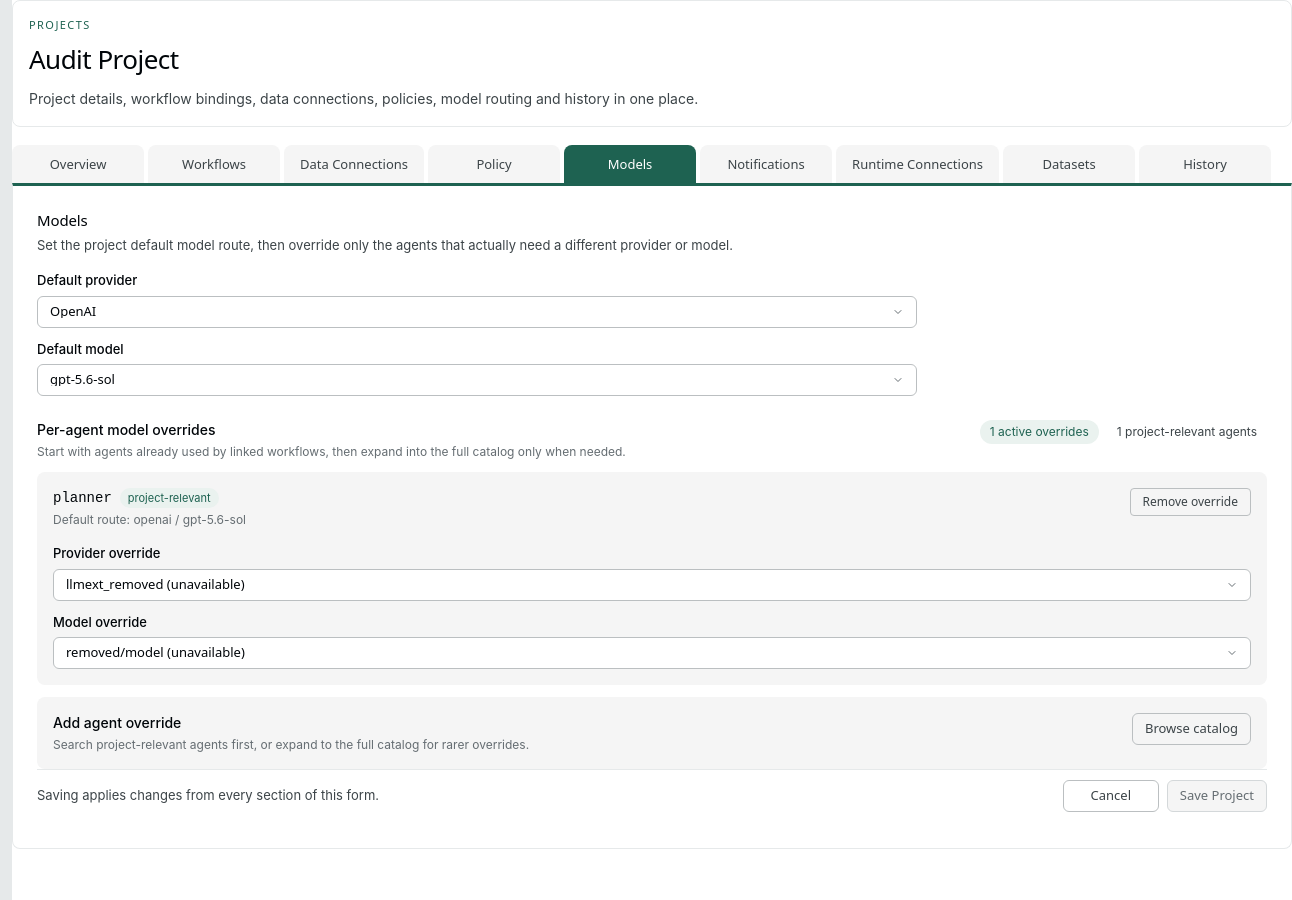
Test: ProjectsDetailPage › preserves an unavailable provider used only by a persisted agent override
Click the dropdown named "Provider override for ": [155, 584] box x1=53 y1=568 x2=1251 y2=600
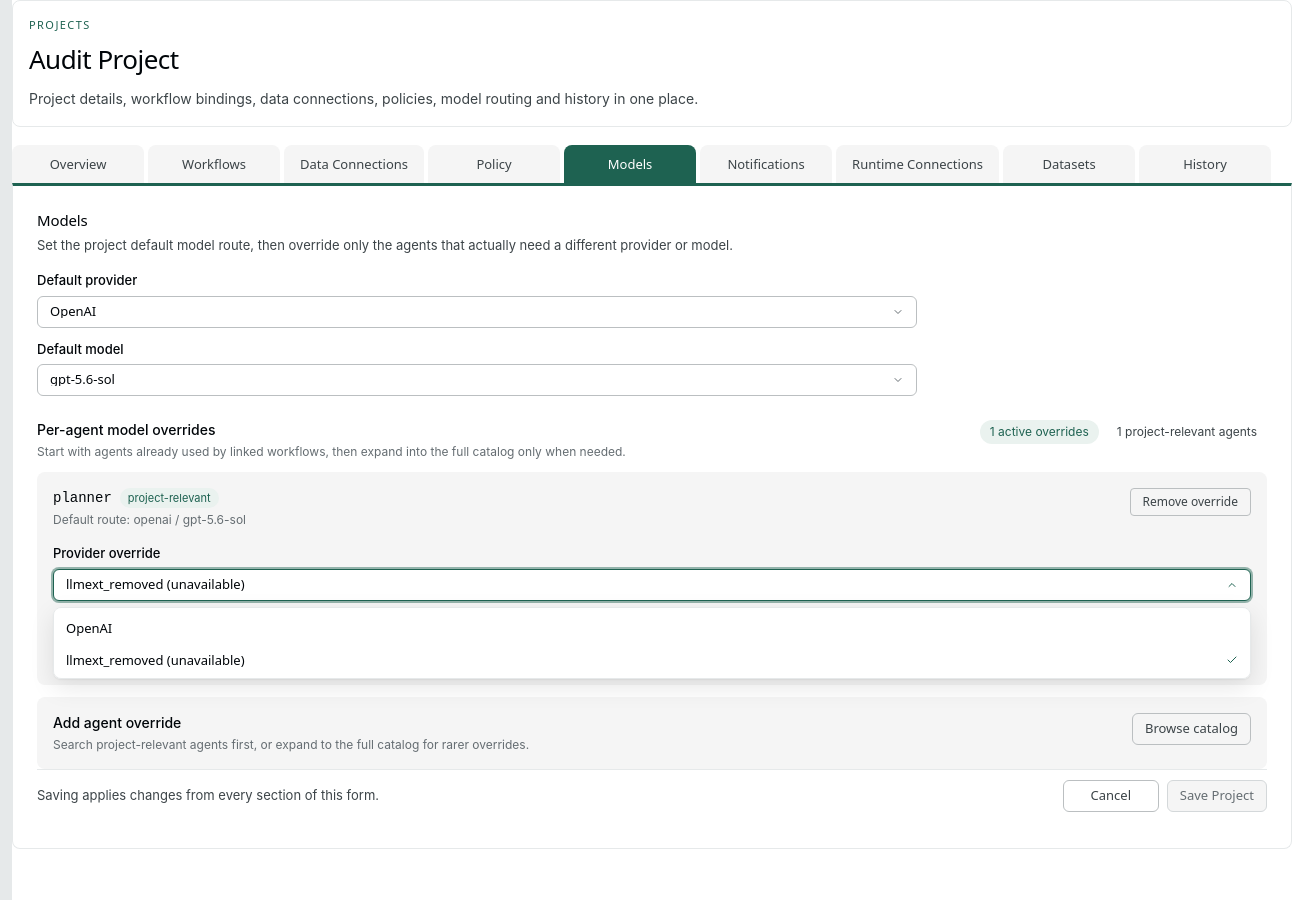
Expected: the button "Save Project" is disabled, x1=1167 y1=780 x2=1267 y2=812
Result: the option "llmext_removed (unavailable)" is shown at x1=58 y1=644 x2=1246 y2=676
